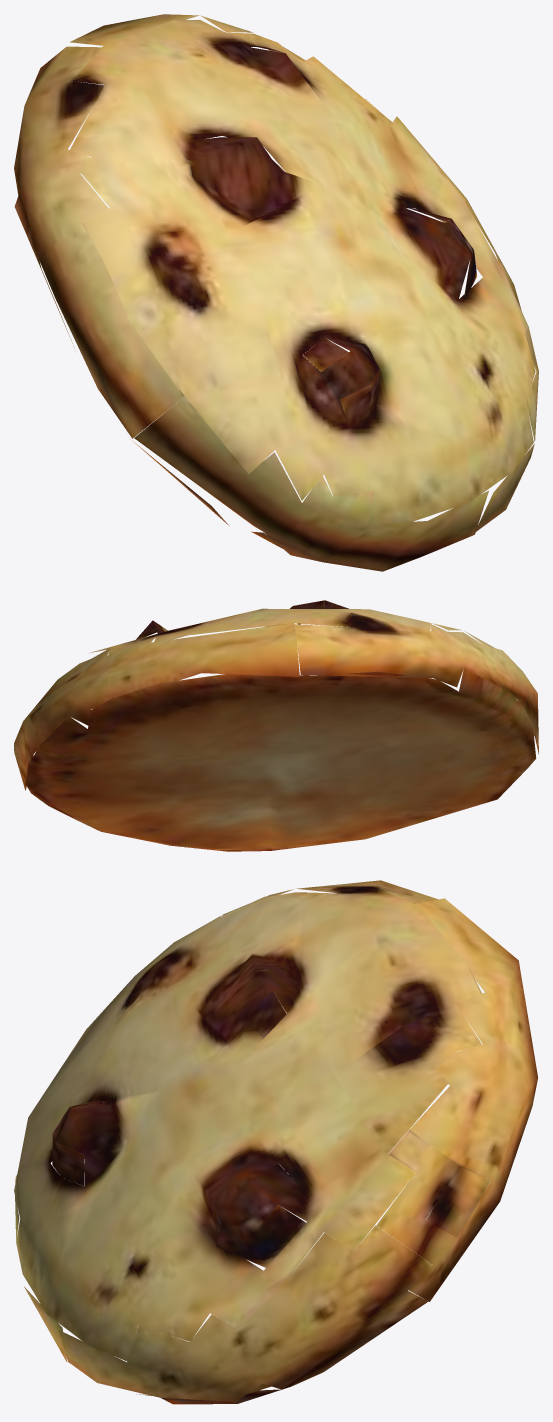
File: cookie.glb
The picture shows the model from 3 angles, top to bottom: view 1: azimuth 30°, elevation 25°; view 2: azimuth 150°, elevation 25°; view 3: azimuth 270°, elevation 25°; orthographic projection. The views are drawn at different scales.
Parts seen in each view (by area): view 1: Cookie_Cookie_0; view 2: Cookie_Cookie_0; view 3: Cookie_Cookie_0.
Boxes of the visible parts, bbox=[...] form: Cookie_Cookie_0: bbox=[14, 14, 538, 571]; Cookie_Cookie_0: bbox=[14, 600, 538, 851]; Cookie_Cookie_0: bbox=[14, 880, 537, 1404].
Size of the model in its own units: 0.0683 by 0.0543 by 0.0648.
1 material, 1 textured.
